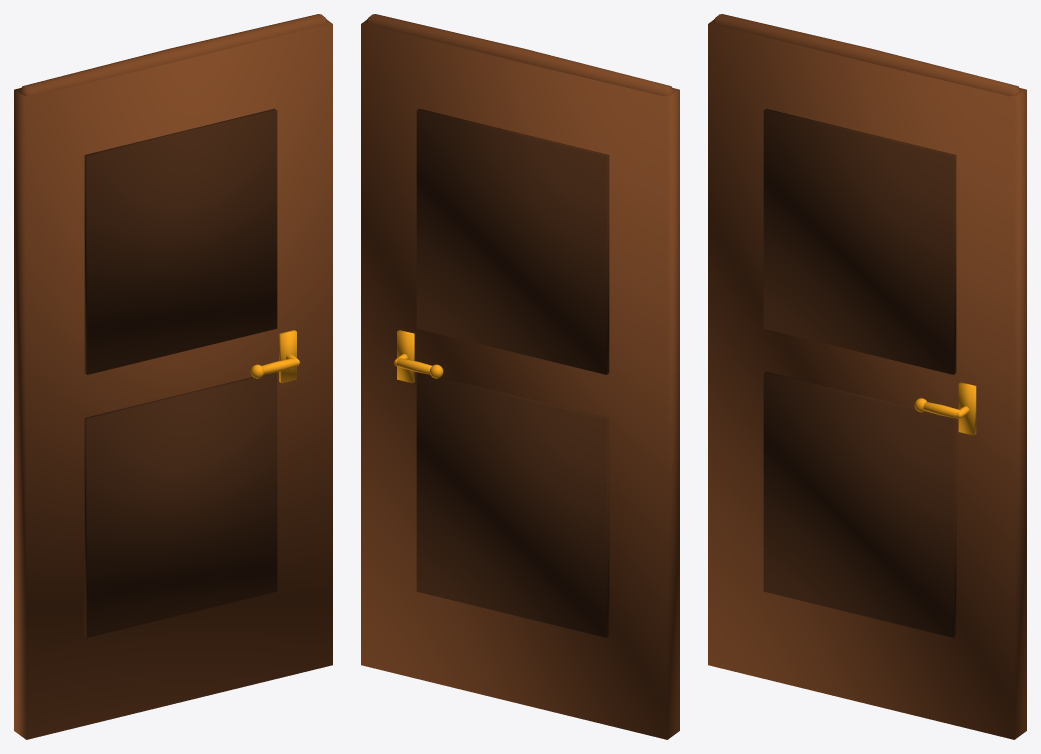
Rendered from tuer_blatt.glb.
3 views of the same model, side by side, from view 1: azimuth 30°, elevation 25°; view 2: azimuth 150°, elevation 25°; view 3: azimuth 330°, elevation 25° (orthographic).
Parts seen in each view (by area): view 1: TuerBlatt; view 2: TuerBlatt; view 3: TuerBlatt.
Boxes of the visible parts, x1,y1,x2,y2 form: TuerBlatt: (14, 14, 332, 739); TuerBlatt: (361, 14, 679, 739); TuerBlatt: (708, 14, 1026, 739).
Bounding box in the file's own units: 1 × 2.02 × 0.208.
Materials: 1 (1 with a texture image).
